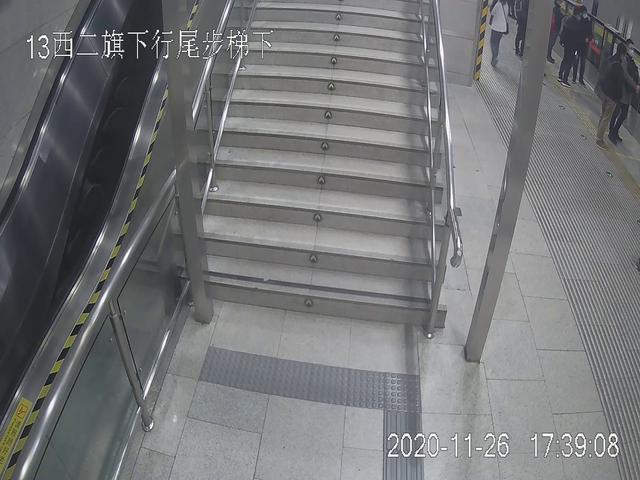person: (593, 41, 628, 145), (489, 1, 513, 68), (559, 5, 578, 85), (573, 5, 590, 86)
